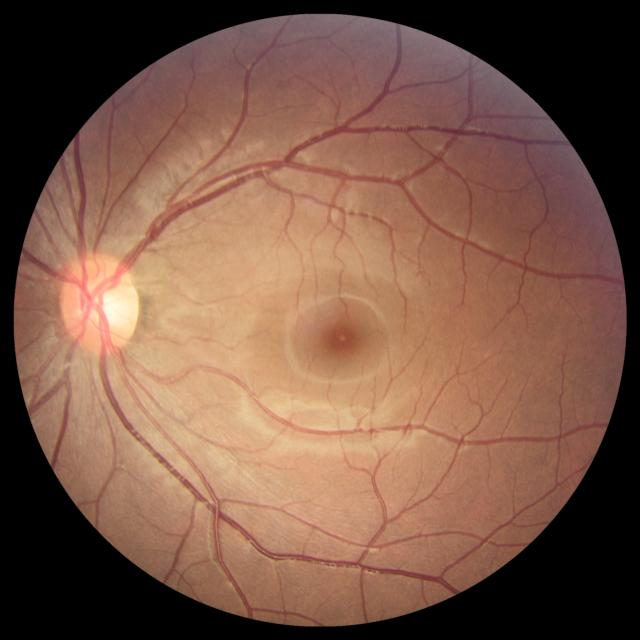OC: (78, 277, 124, 326)
OD: (58, 254, 140, 352)
